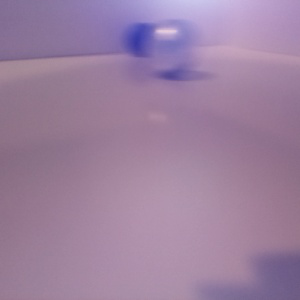alive_ball: (145, 19, 195, 77)
dead_ball: (124, 22, 153, 54)
